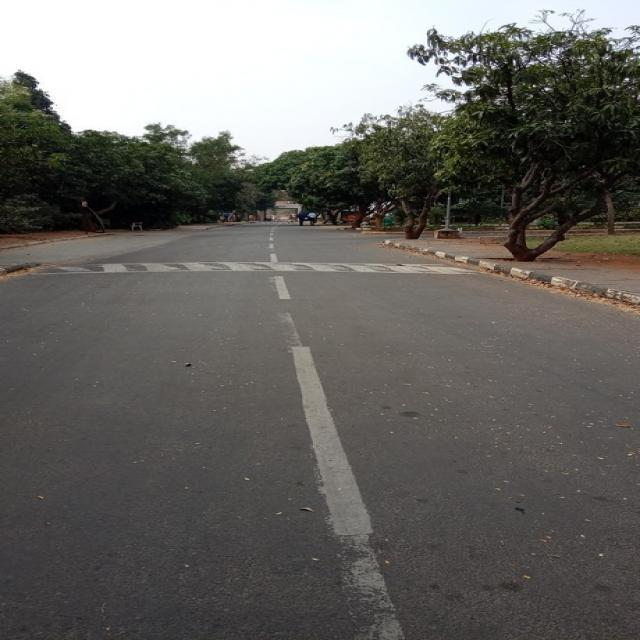crosswalk: (34, 258, 475, 283)
